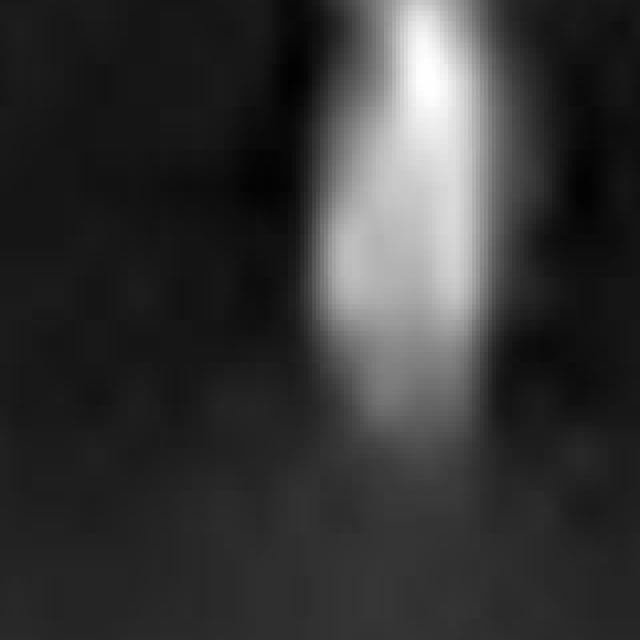person: (265, 1, 529, 492)
